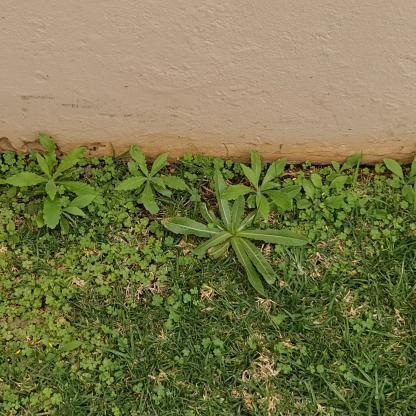Weeds: (157, 168, 309, 297), (4, 133, 103, 235), (116, 143, 191, 218), (222, 150, 293, 221), (385, 156, 415, 208)
